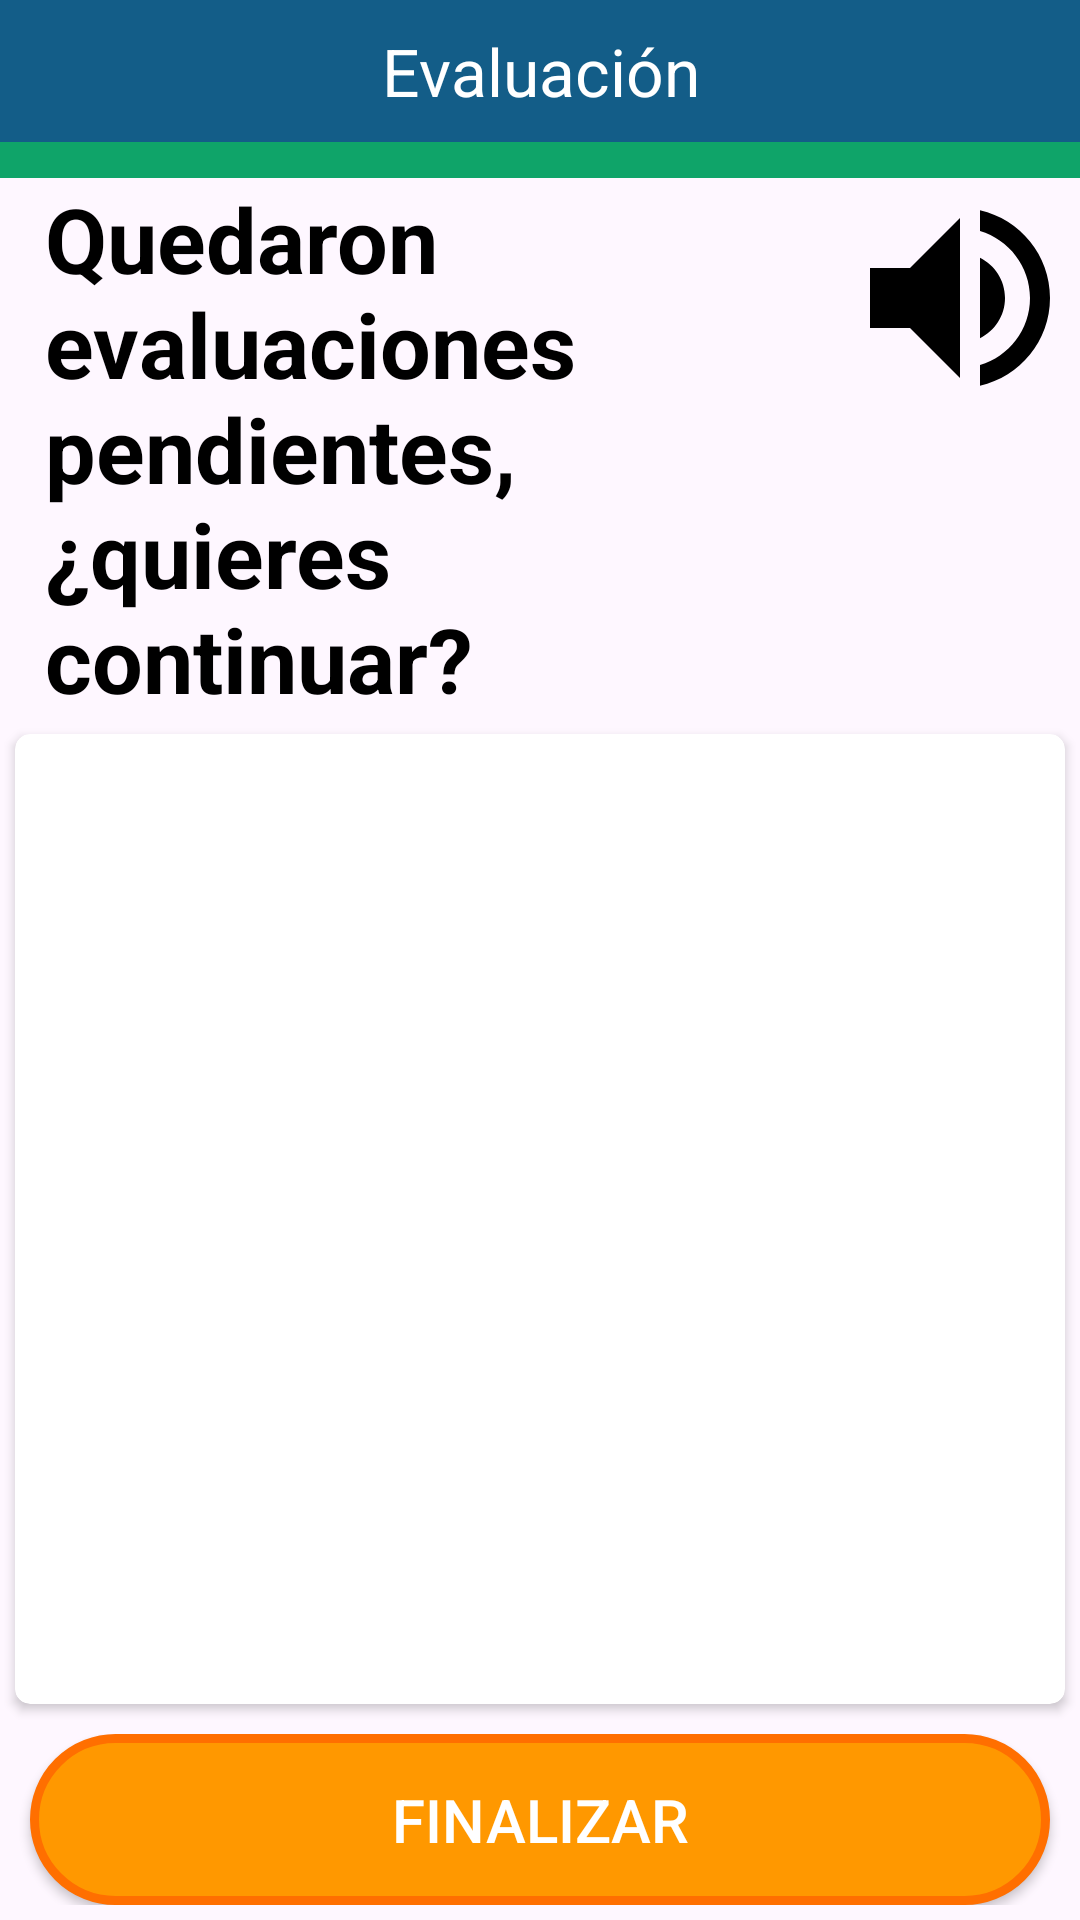

Named icons in this screenshot (1080 × 1920) and their centers, point (x, y):
speaker: point (960, 298)
